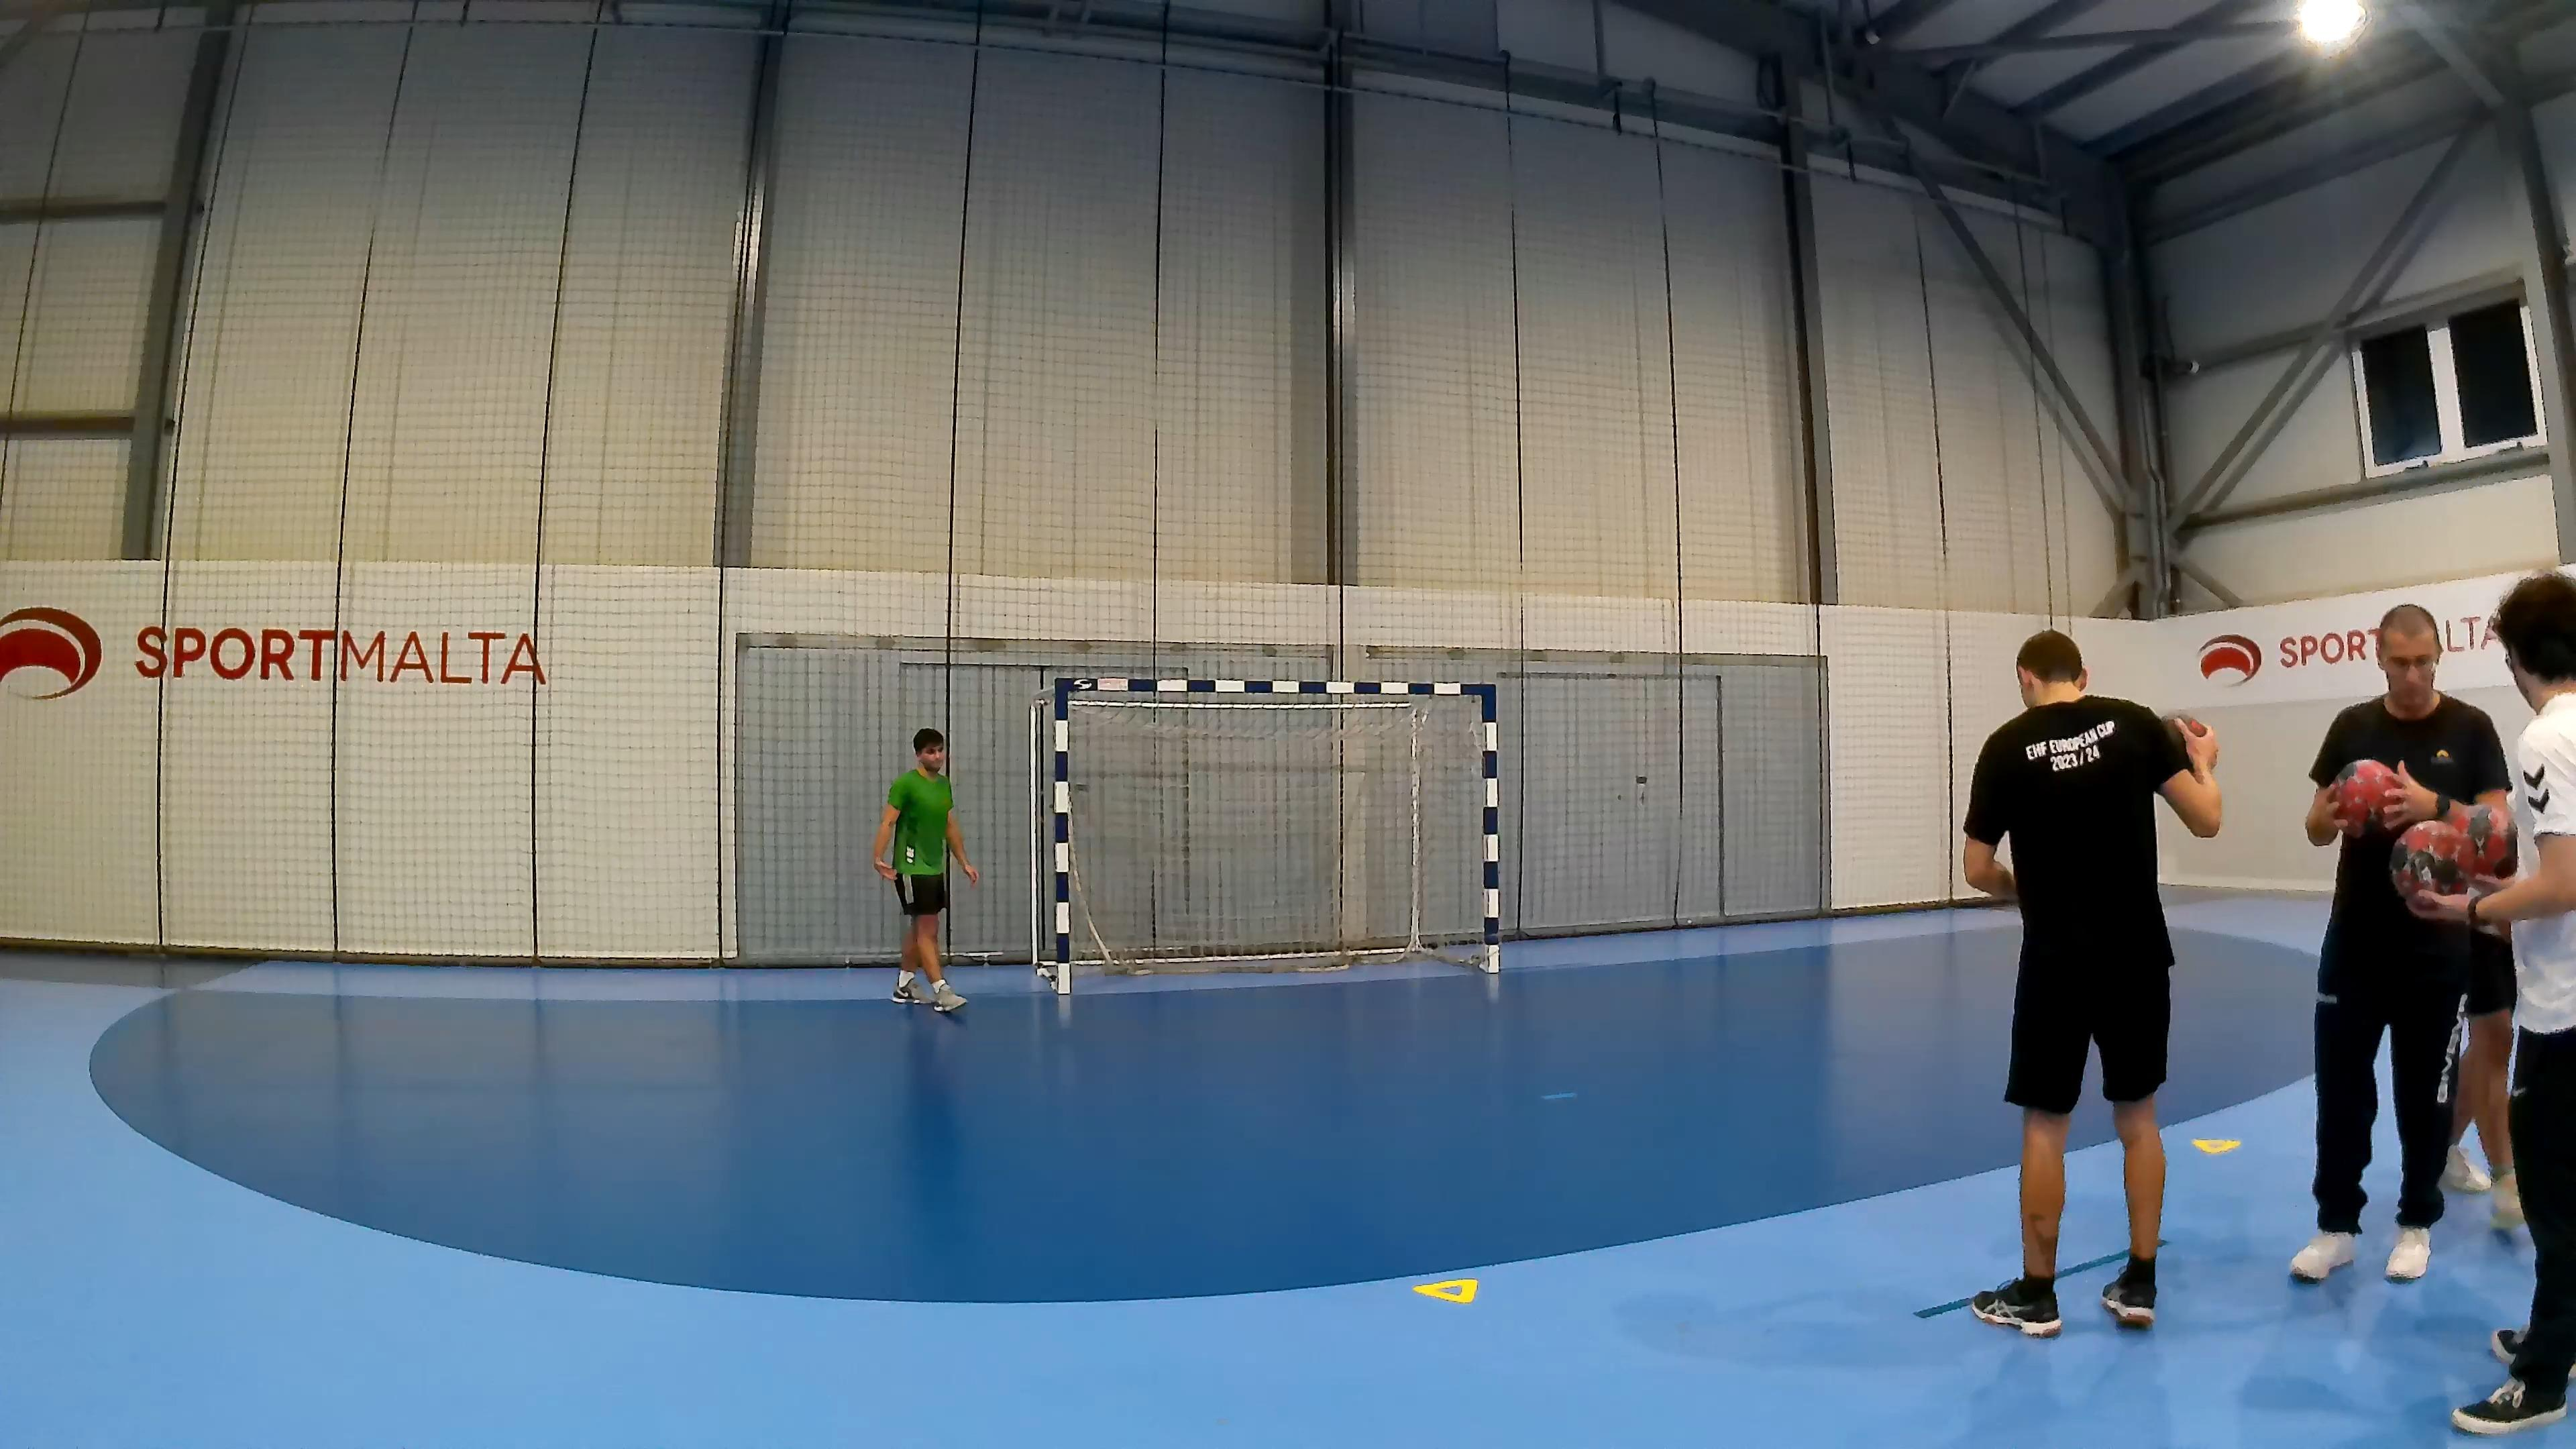handball: (2447, 796, 2523, 883), (2388, 819, 2468, 901), (2328, 757, 2394, 837)
